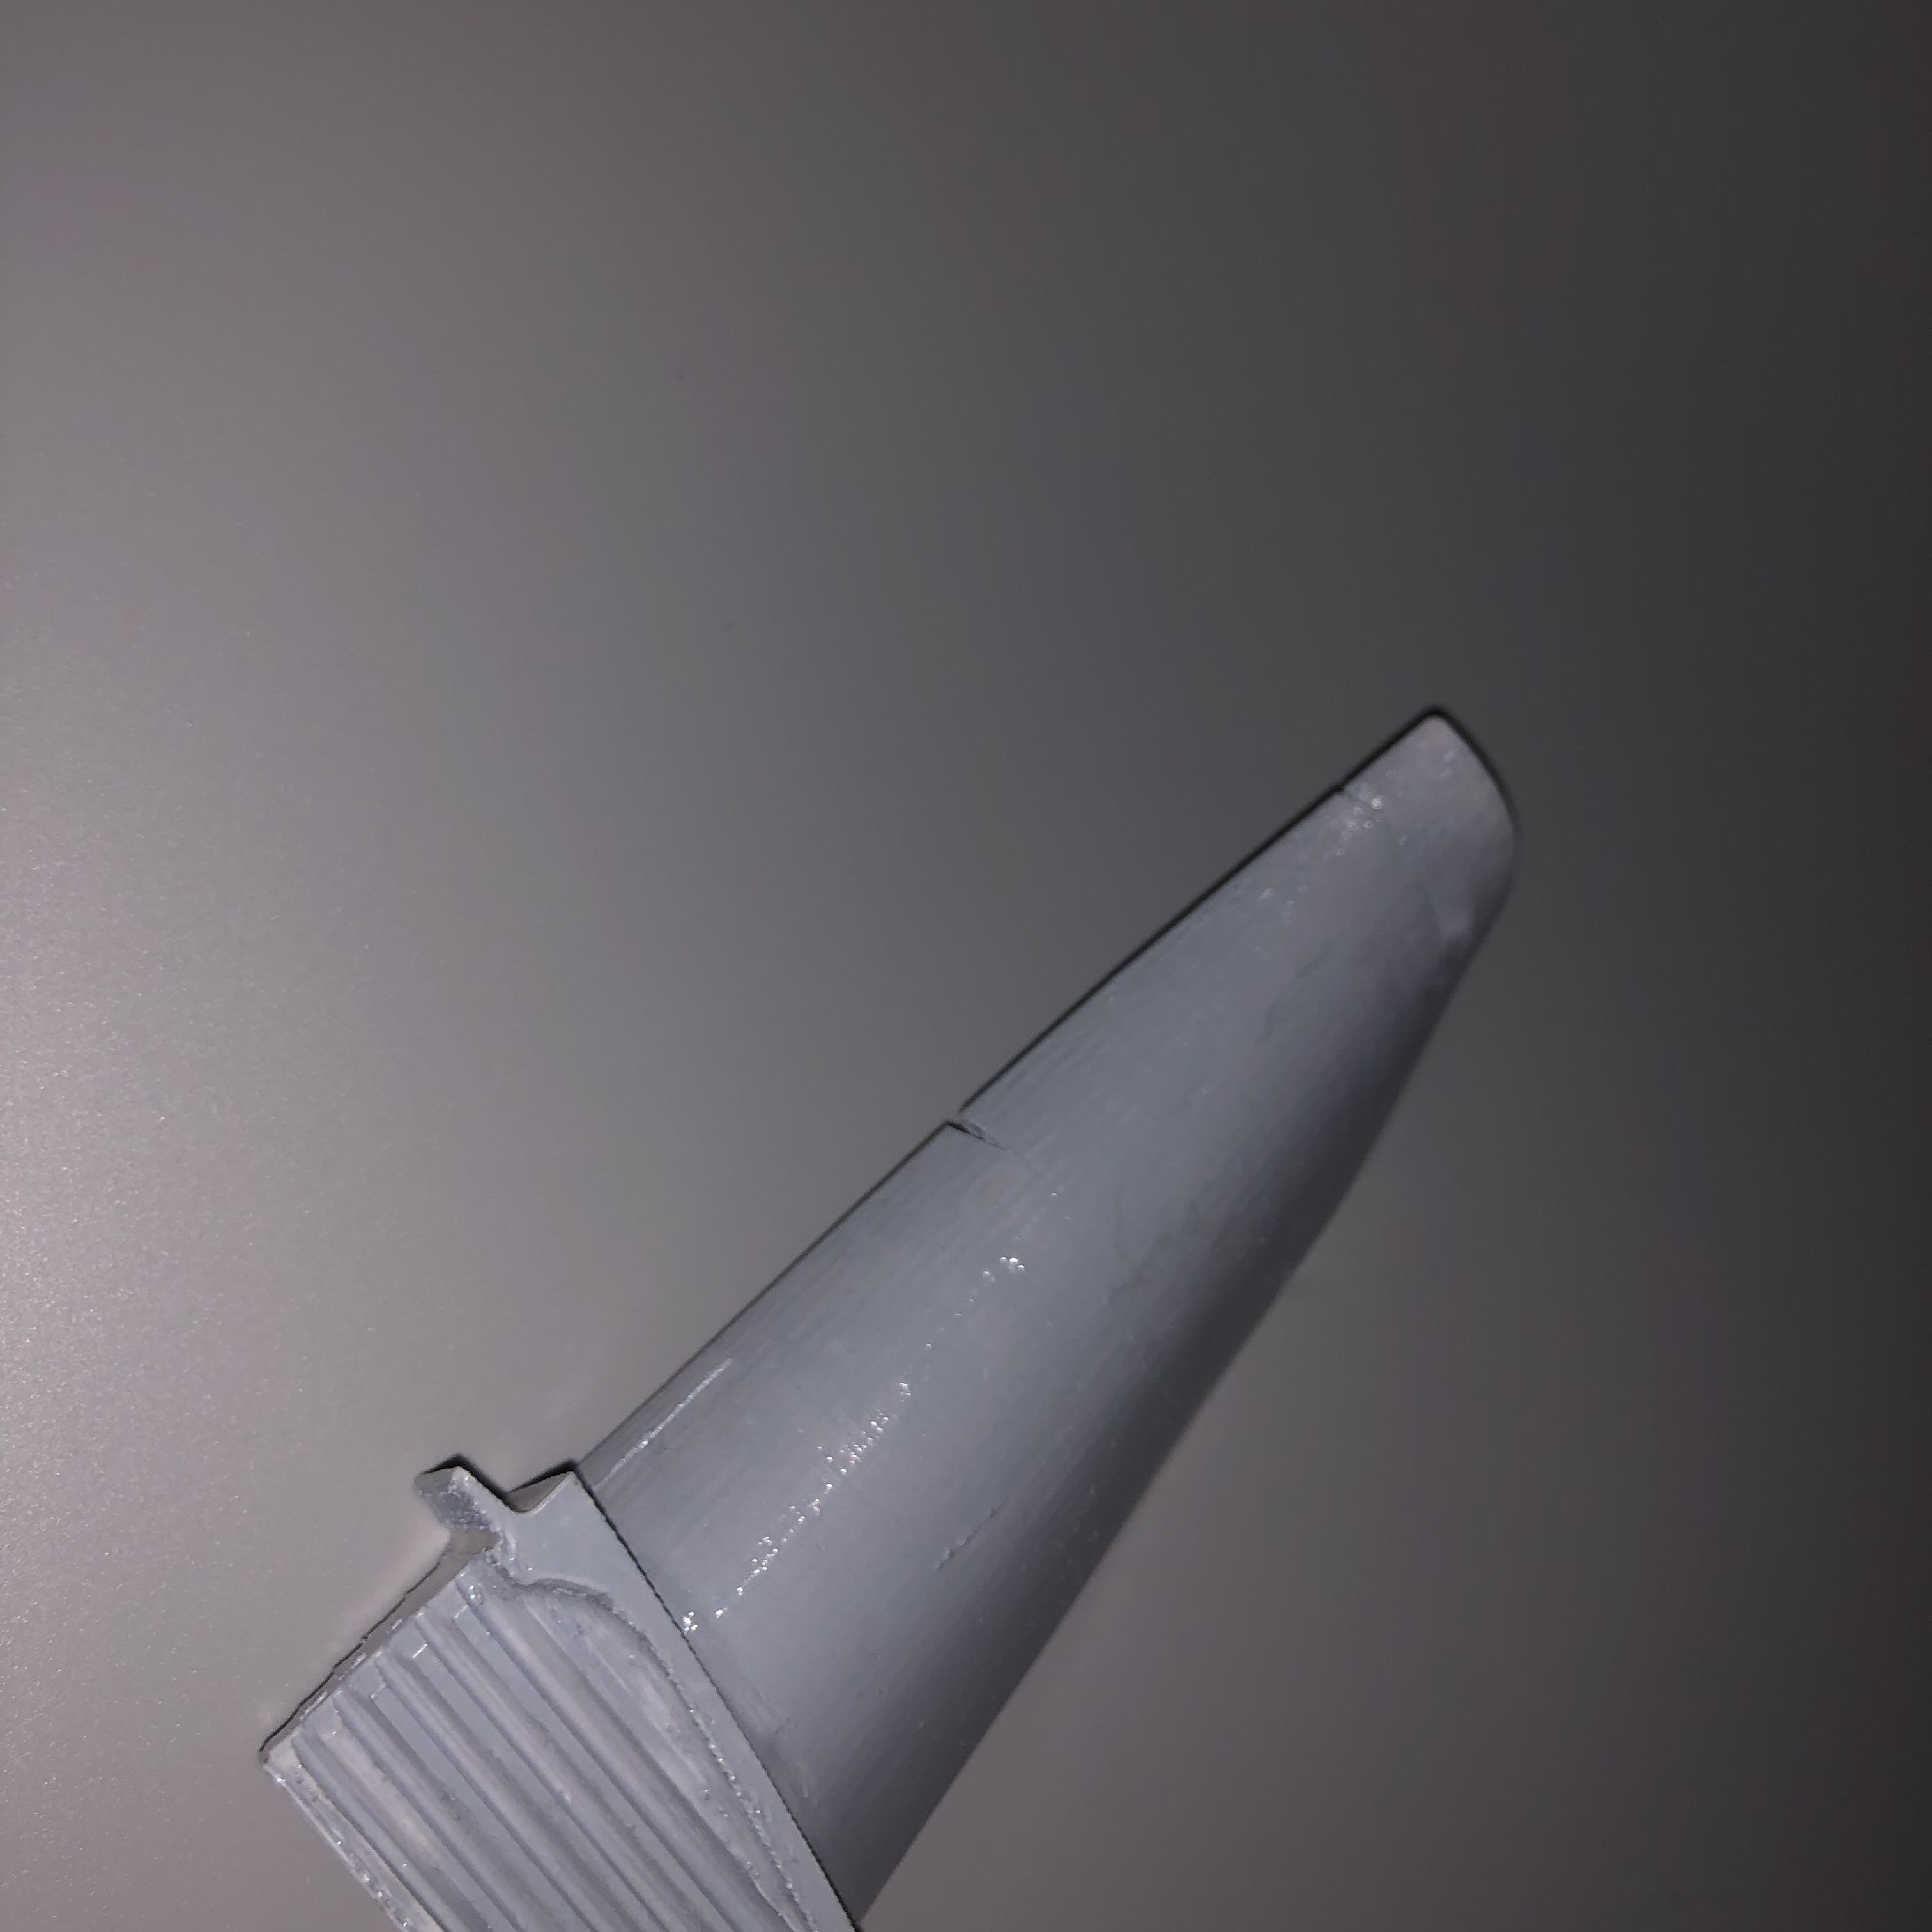groove: (938, 1104, 1024, 1159)
